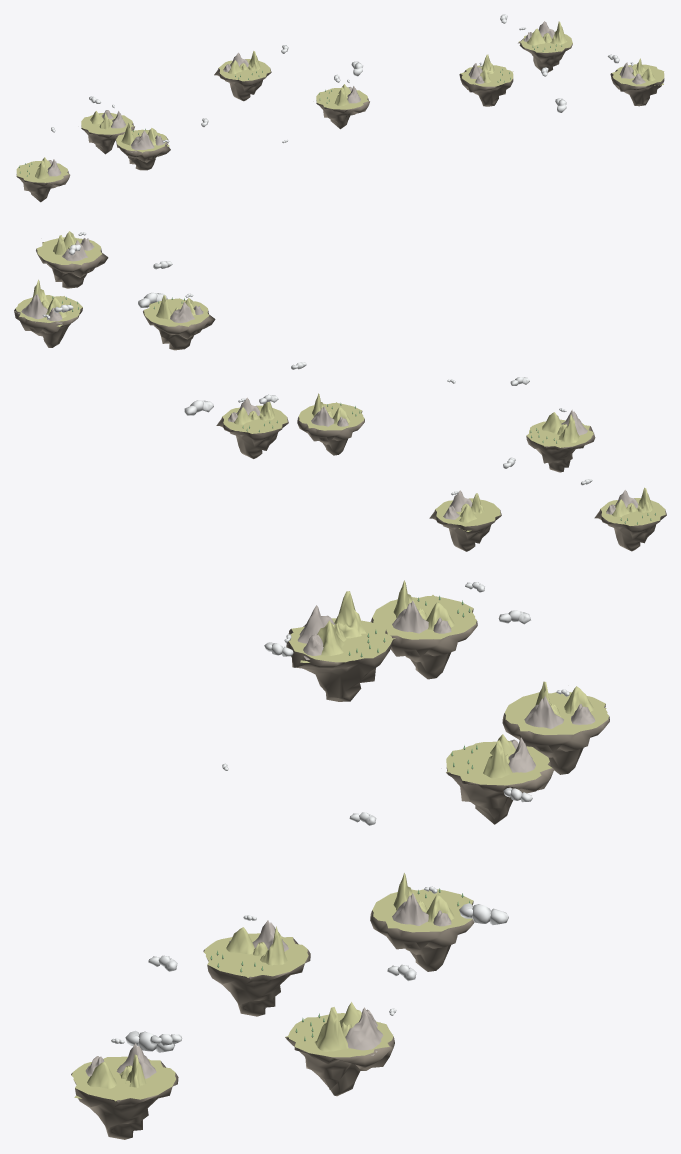
The model's file is Ile_Background.fbx.
The picture shows the model from 3 angles, top to bottom: view 1: azimuth 30°, elevation 25°; view 2: azimuth 150°, elevation 25°; view 3: azimuth 270°, elevation 25°; orthographic projection. The views are drawn at different scales.
Parts seen in each view (by area): view 1: Sphere_3.004, Sphere.002, Sphere_6.003, Sphere_3.007, Cube_3.006, Cube_3.005, Cube_3.004, Sphere_3.005, Sphere_3.006, Cube_3.007, Sphere_6.002, Cube.002 (+4 smaller); view 2: Sphere_3.004, Sphere.002, Sphere_3.005, Sphere_3.006, Sphere.003, Sphere_3.007, Sphere_6.002, Sphere_6.003, Cube_3.006, Cube_3.007, Cube_3.005, Cube_3.004 (+4 smaller); view 3: Sphere_6.003, Cube_3.004, Cube_3.007, Sphere_3.005, Sphere_3.004, Sphere_6.002, Sphere.002, Cube.002, Sphere.003, Cube_3.006, Cube.003, Sphere_3.007 (+7 smaller).
Part boxes in pixels (<box>): Sphere_3.004: <box>459,70,513,106</box>; Sphere.002: <box>610,70,664,106</box>; Sphere_6.003: <box>116,135,170,170</box>; Sphere_3.007: <box>214,68,271,101</box>; Cube_3.006: <box>16,161,69,182</box>; Cube_3.005: <box>316,88,368,109</box>; Cube_3.004: <box>460,65,513,86</box>; Sphere_3.005: <box>316,98,369,129</box>; Sphere_3.006: <box>16,171,70,202</box>; Cube_3.007: <box>219,59,270,81</box>; Sphere_6.002: <box>518,38,572,72</box>; Cube.002: <box>612,64,664,86</box>; Sphere_3.004: <box>143,304,215,350</box>; Sphere.002: <box>36,242,108,288</box>; Sphere_3.005: <box>216,417,288,458</box>; Sphere_3.006: <box>594,509,666,551</box>; Sphere.003: <box>429,509,501,551</box>; Sphere_3.007: <box>297,411,364,455</box>; Sphere_6.002: <box>14,307,82,347</box>; Sphere_6.003: <box>526,426,595,472</box>; Cube_3.006: <box>600,498,665,525</box>; Cube_3.007: <box>298,402,364,430</box>; Cube_3.005: <box>222,405,287,433</box>; Cube_3.004: <box>144,298,209,326</box>; Sphere_6.003: <box>286,624,394,701</box>; Cube_3.004: <box>204,933,308,977</box>; Cube_3.007: <box>446,741,551,785</box>; Sphere_3.005: <box>370,901,474,971</box>; Sphere_3.004: <box>203,938,310,1016</box>; Sphere_6.002: <box>285,1036,394,1096</box>; Sphere.002: <box>71,1061,178,1139</box>; Cube.002: <box>71,1056,175,1101</box>; Sphere.003: <box>502,704,609,774</box>; Cube_3.006: <box>372,595,476,639</box>; Cube.003: <box>504,692,608,734</box>; Sphere_3.007: <box>446,762,554,824</box>.
Bounding box in the file's own units: 7834 × 1064 × 3198.
